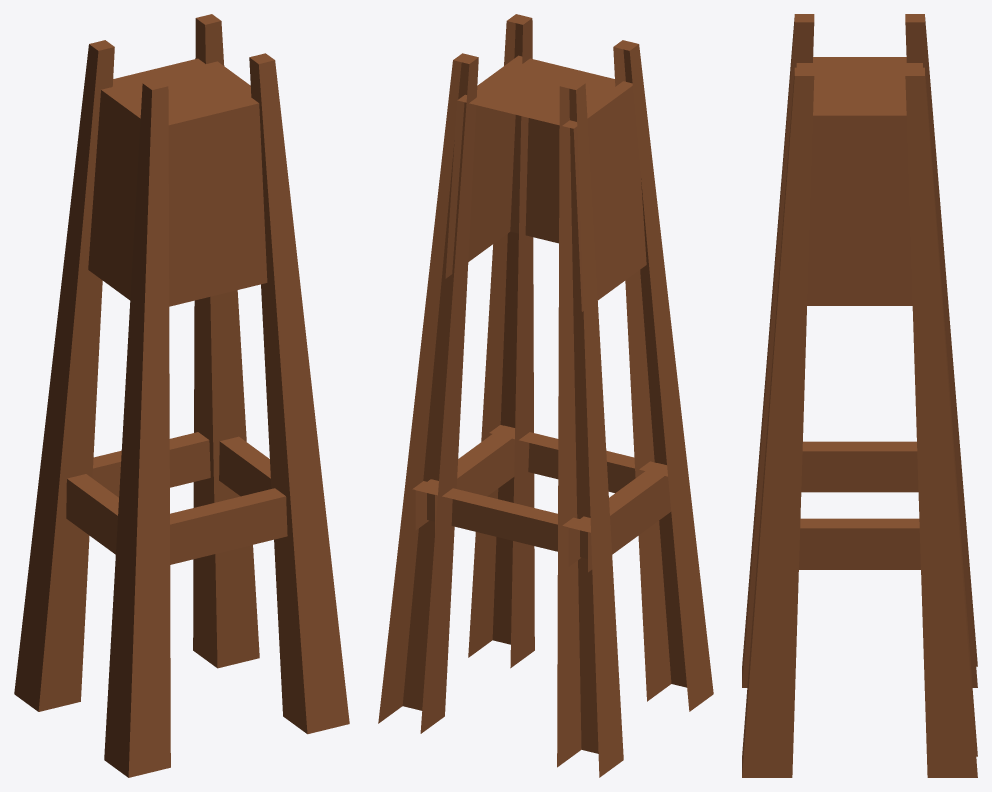
File: Sce_maincity_windmill_fengche_di_01.FBX
3 renders of one model, left to right at view 1: azimuth 30°, elevation 25°; view 2: azimuth 150°, elevation 25°; view 3: azimuth 270°, elevation 25°, orthographic. The views are drawn at different scales.
Visible parts, largest first — view 1: Sce_maincity_windmill_01; view 2: Sce_maincity_windmill_01; view 3: Sce_maincity_windmill_01.
Part boxes in pixels (<box>): Sce_maincity_windmill_01: <box>14,14,349,777</box>; Sce_maincity_windmill_01: <box>378,14,713,777</box>; Sce_maincity_windmill_01: <box>742,14,977,777</box>.
Bounding box in the file's own units: 4.92 × 13.96 × 4.41.
Materials: 1 (1 with a texture image).
